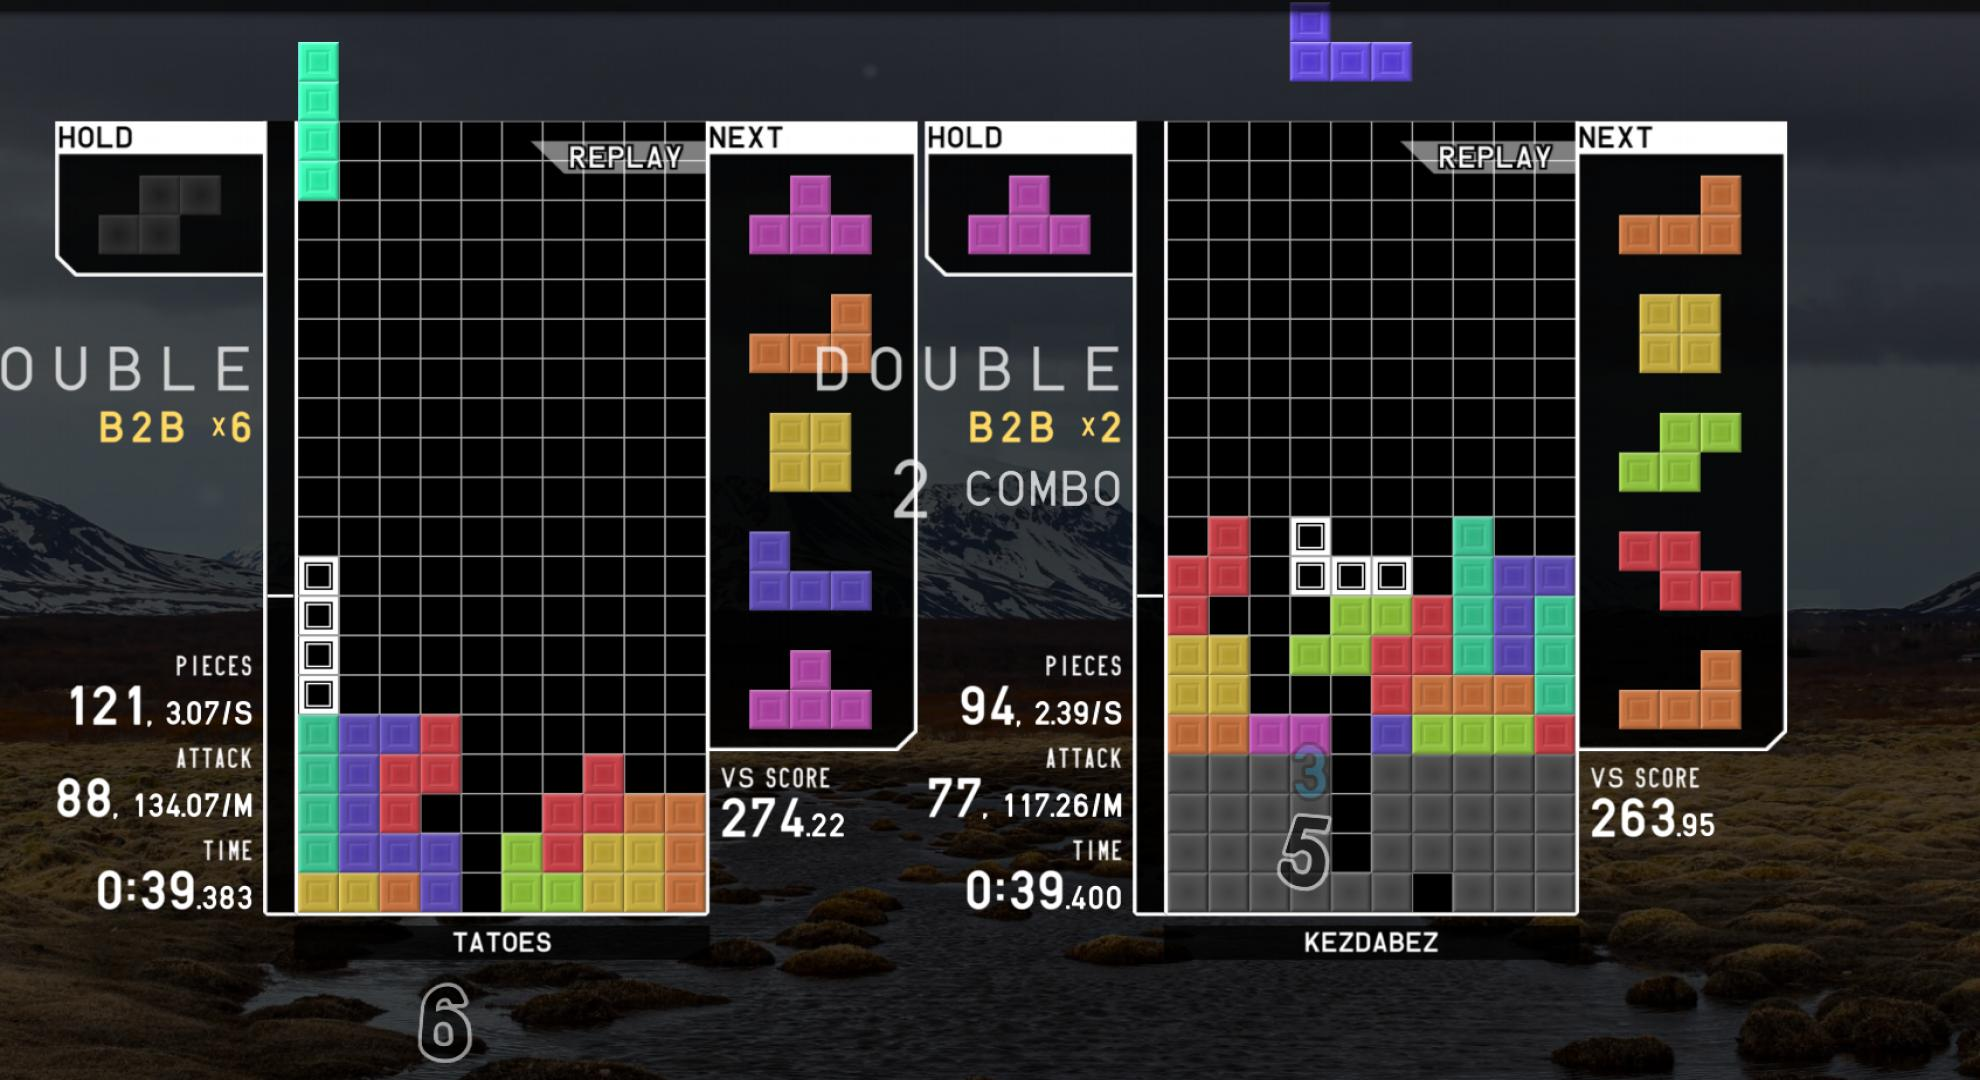tspin: (1202, 553, 1334, 680), (419, 747, 548, 871)
